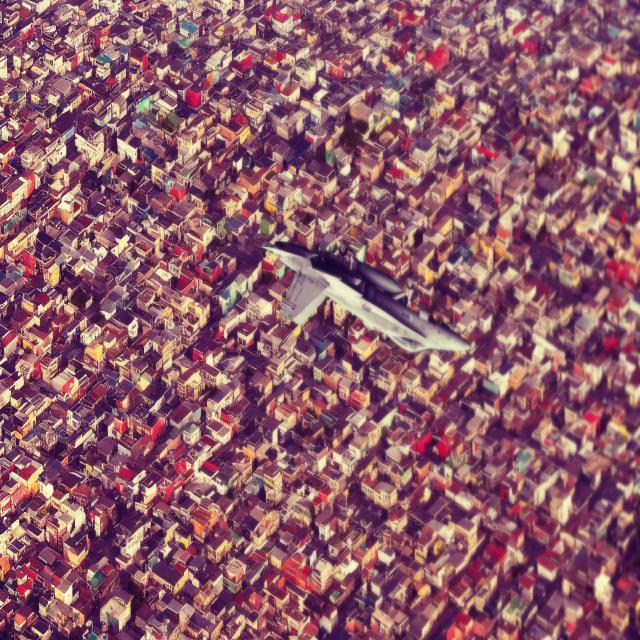airplane: (257, 236, 473, 358)
